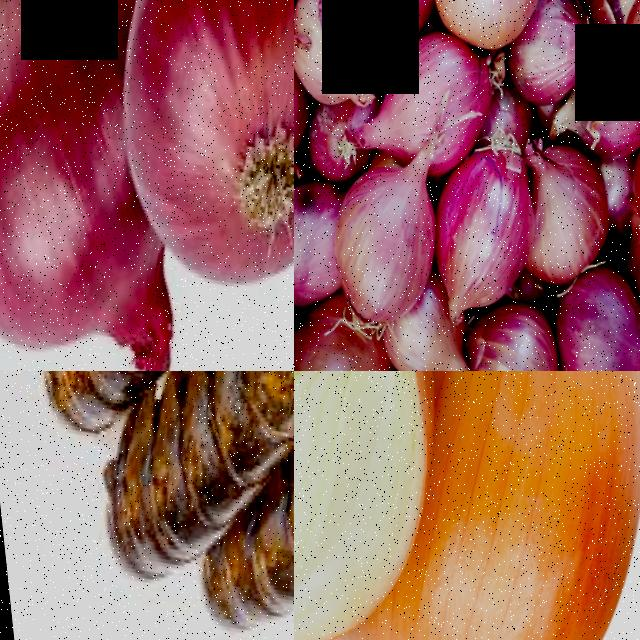lobster tails: (130, 371, 294, 560), (2, 371, 247, 443)
onion: (321, 371, 640, 640), (53, 0, 294, 333), (0, 0, 184, 371), (294, 371, 504, 640), (296, 149, 447, 343), (400, 149, 537, 331), (349, 26, 498, 191), (504, 148, 618, 300), (496, 0, 602, 128), (404, 0, 561, 70), (528, 274, 640, 371), (294, 0, 382, 120), (433, 300, 560, 371), (589, 0, 640, 150), (294, 180, 341, 320), (603, 127, 640, 266)
